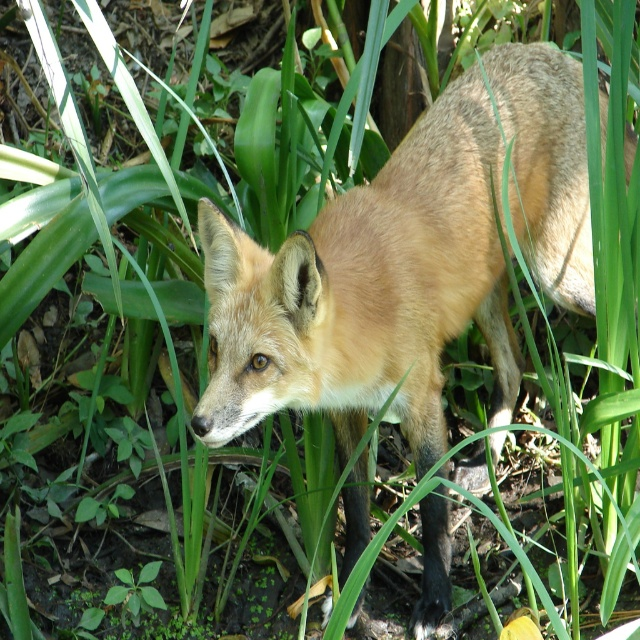Fox: (180, 40, 640, 640)
